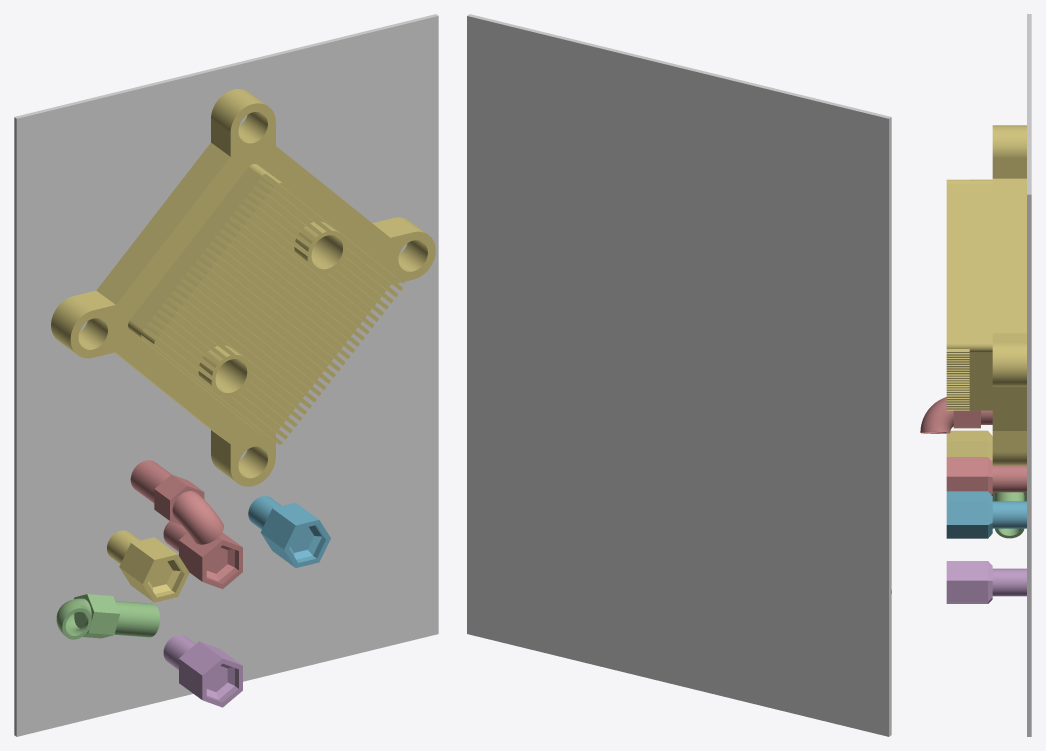
Rendered from pickup_layout.glb.
3 views of the same model, side by side, from view 1: azimuth 30°, elevation 25°; view 2: azimuth 150°, elevation 25°; view 3: azimuth 270°, elevation 25° (orthographic). The views are drawn at different scales.
Parts seen in each view (by area): view 1: world, 1.obj, 0.obj, 4.obj, 6.obj, 2.obj, 3.obj, 5.obj; view 2: world; view 3: 1.obj, world, 2.obj, 3.obj, 5.obj, 0.obj, 6.obj, 4.obj.
Part boxes in pixels (left/top/right/bottom): world: left=14, top=14, right=438, bottom=736; 1.obj: left=51, top=89, right=435, bottom=486; 0.obj: left=130, top=460, right=223, bottom=544; 4.obj: left=56, top=594, right=160, bottom=639; 6.obj: left=107, top=530, right=189, bottom=602; 2.obj: left=248, top=496, right=330, bottom=567; 3.obj: left=163, top=635, right=242, bottom=707; 5.obj: left=163, top=521, right=242, bottom=589; world: left=467, top=14, right=891, bottom=736; 1.obj: left=946, top=125, right=1026, bottom=464; world: left=1027, top=14, right=1031, bottom=736; 2.obj: left=946, top=491, right=1026, bottom=538; 3.obj: left=946, top=561, right=1026, bottom=603; 5.obj: left=946, top=457, right=1026, bottom=495; 0.obj: left=920, top=397, right=992, bottom=433; 6.obj: left=946, top=430, right=992, bottom=461; 4.obj: left=992, top=492, right=1026, bottom=538.
Size of the model in its own units: 18.66 by 26.11 by 4.85.
